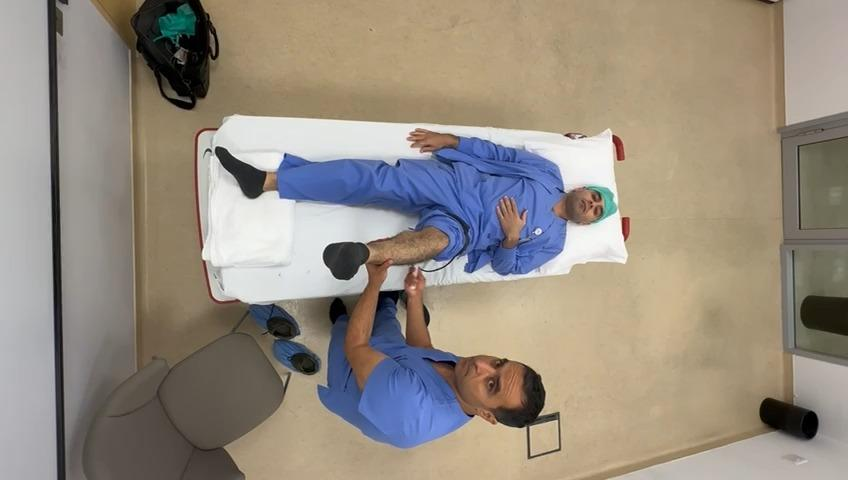bed: (197, 119, 631, 306)
patient: (215, 128, 616, 280)
tourniquet: (424, 212, 470, 271), (412, 265, 421, 289)
